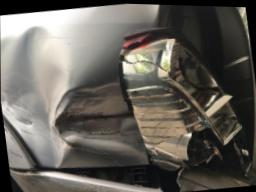Fender: (0, 1, 136, 192)
Light: (123, 19, 252, 176)
